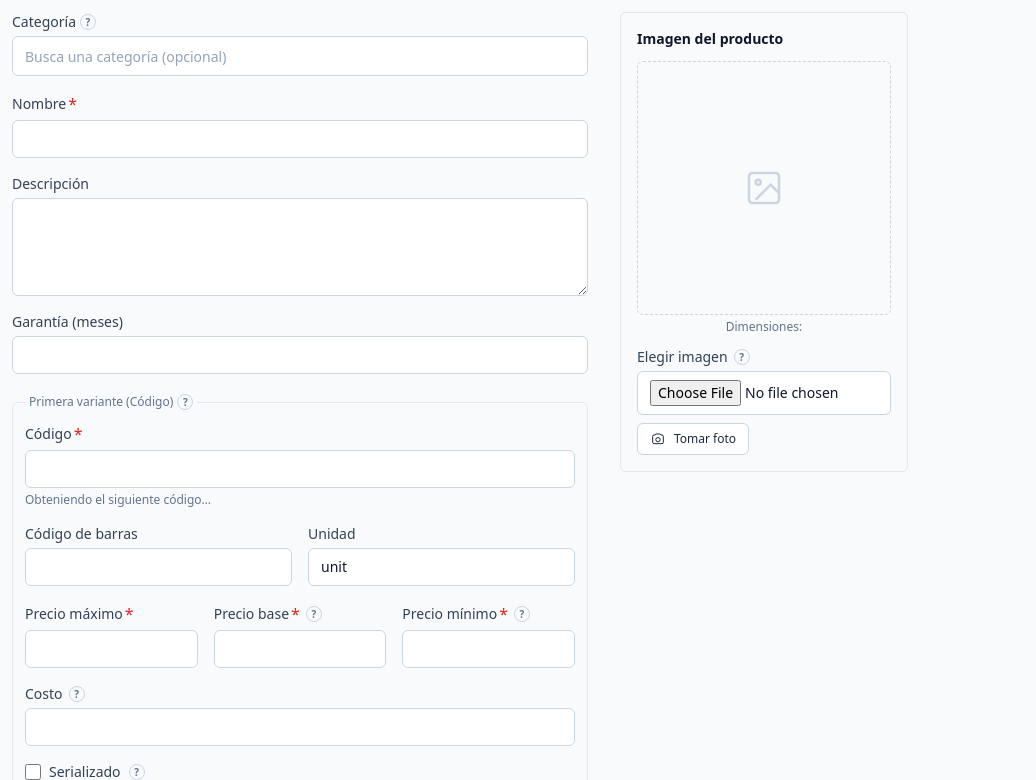
Test: ProductForm — create › shows a message when no category matches, and Categoría stays optional
The width and height of the screenshot is (1036, 780).
Type "zzz" into the search field named "Buscar categoría" at (300, 56), box [12,36,588,76]
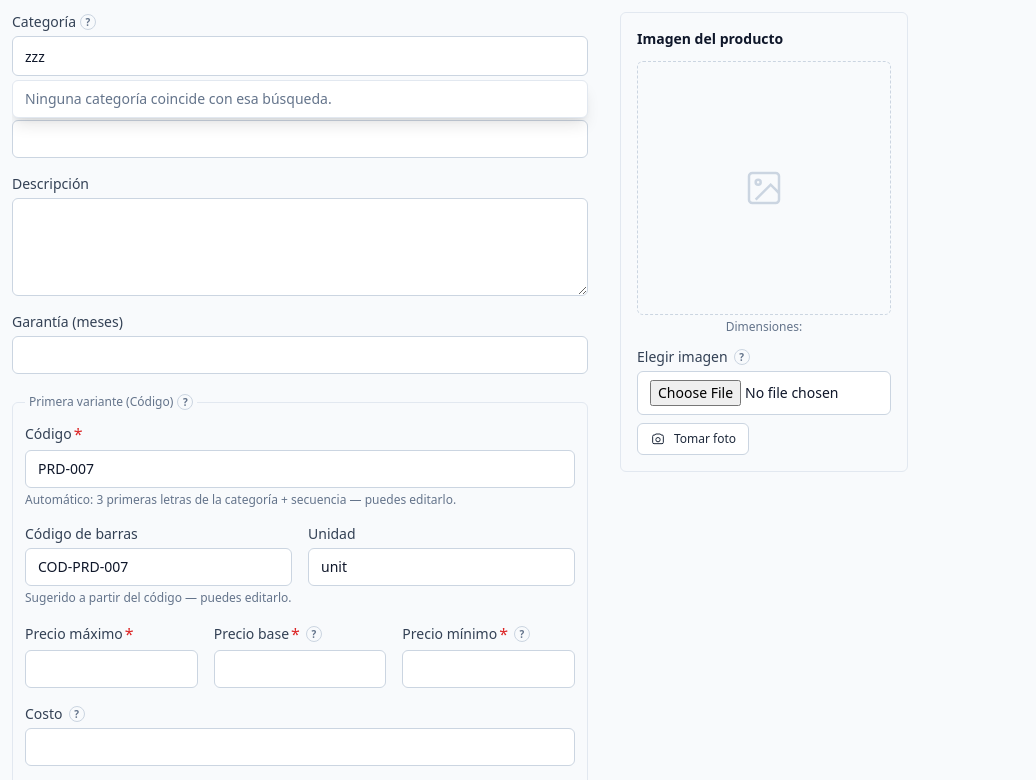
Expected: the text "Ninguna categoría coincide con esa búsqueda." is shown, [25,89,332,108]
